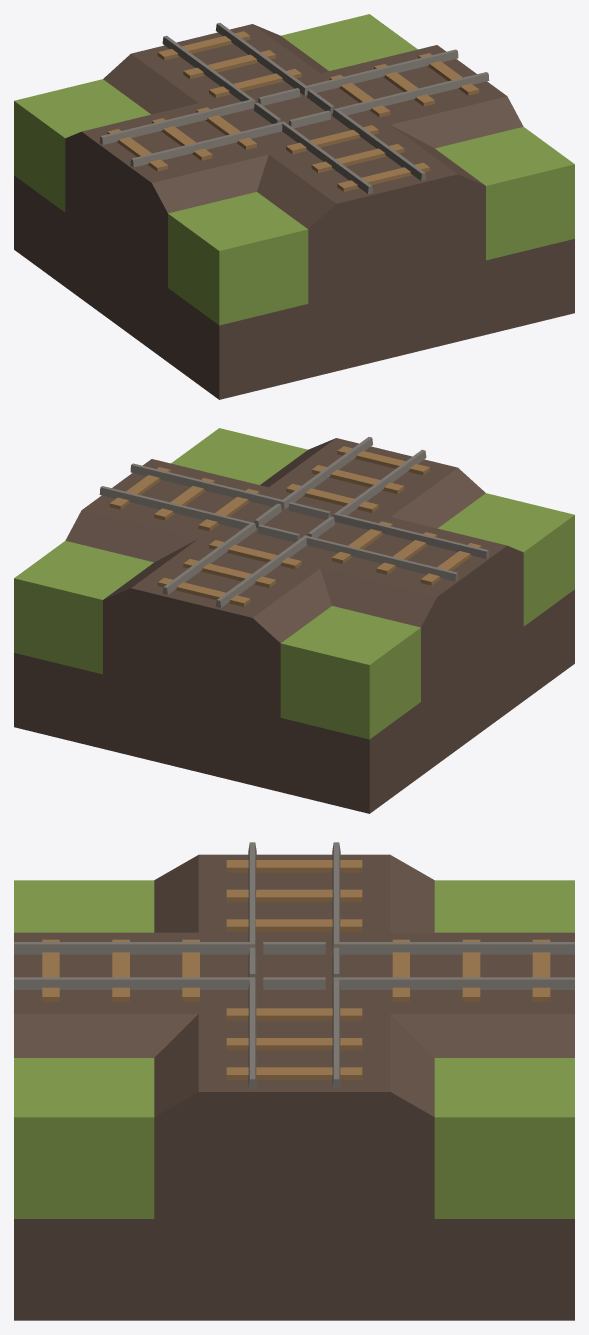
Rendered from rail-tile-crossing_small.fbx.
3 views of the same model, one above another, from view 1: azimuth 30°, elevation 25°; view 2: azimuth 150°, elevation 25°; view 3: azimuth 270°, elevation 25° (orthographic). The views are drawn at different scales.
Parts seen in each view (by area): view 1: rail-tile_crossing_small; view 2: rail-tile_crossing_small; view 3: rail-tile_crossing_small.
Part boxes in pixels (x1,y1,x2,y2): rail-tile_crossing_small: (14, 14, 574, 399); rail-tile_crossing_small: (14, 428, 574, 813); rail-tile_crossing_small: (14, 842, 574, 1320).
Size of the model in its own units: 1000 by 475 by 1000.
